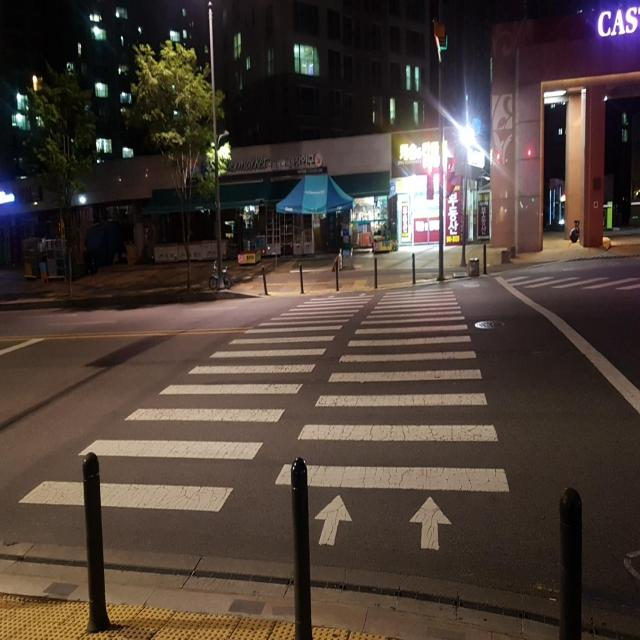빨간불: (426, 154, 435, 204), (448, 153, 456, 199)
횡단보도: (16, 279, 513, 556), (496, 264, 640, 297)
